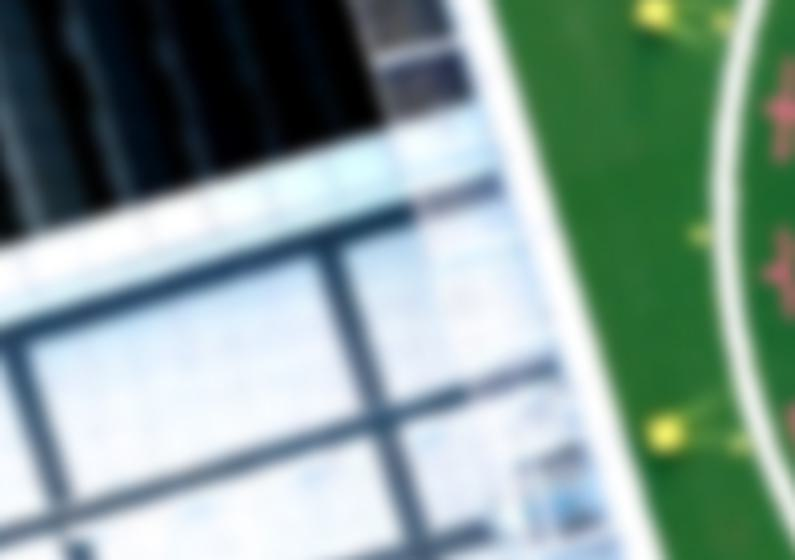Apron: (704, 1, 793, 560)
